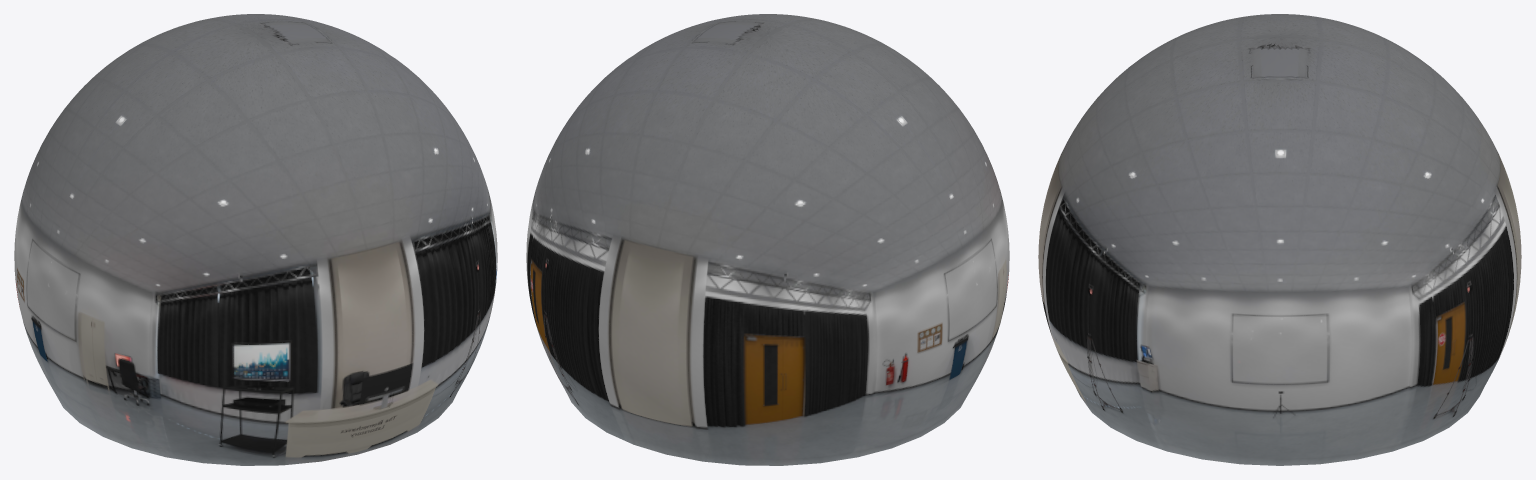
Rendered from Interior 62.glb.
3 renders of one model, left to right at view 1: azimuth 30°, elevation 25°; view 2: azimuth 150°, elevation 25°; view 3: azimuth 270°, elevation 25°, orthographic.
Parts seen in each view (by area): view 1: Sphere; view 2: Sphere; view 3: Sphere.
Part boxes in pixels (box(x1,y1,x2,y2)): Sphere: box(14, 14, 497, 465); Sphere: box(526, 14, 1009, 465); Sphere: box(1038, 14, 1521, 465).
Bounding box in the file's own units: 19.74 × 15.53 × 19.74.
Materials: 1 (1 with a texture image).
